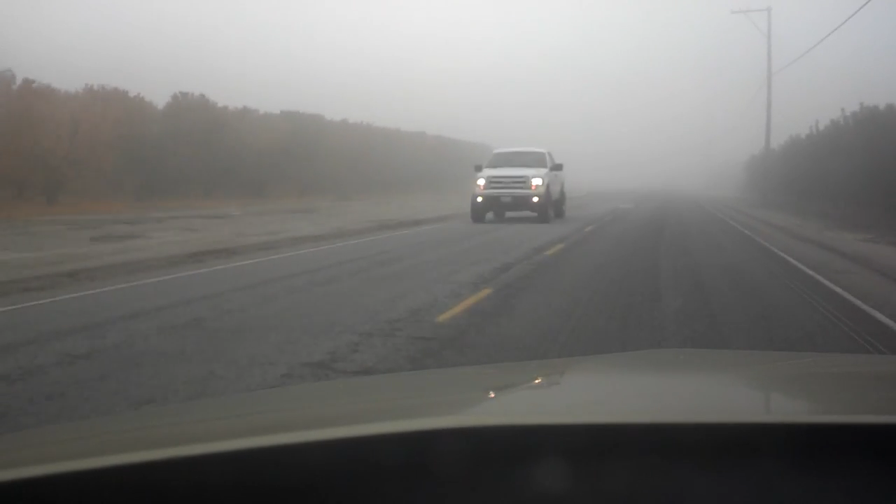car: (468, 147, 570, 224)
